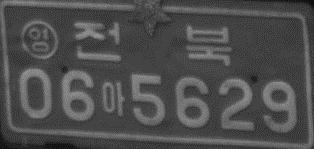0: (19, 68, 52, 121)
2: (217, 77, 255, 131)
5: (130, 72, 166, 128)
6: (175, 76, 210, 130), (60, 69, 95, 122)
9: (261, 80, 298, 134)
아: (101, 80, 126, 117)
영: (20, 19, 58, 60)
전북_D: (72, 20, 231, 66)
